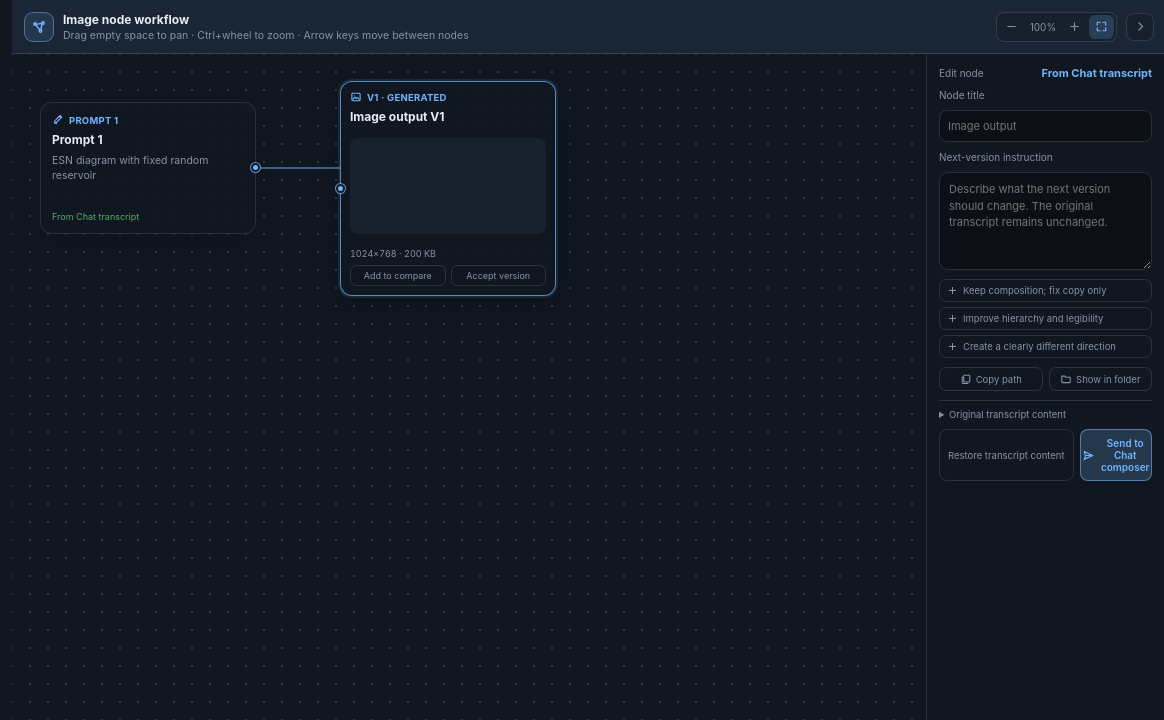
Scenario: ImageWorkflowPanel › collapses the inspector to give the canvas the full pane
Expected: the element with class "image-workflow-inspector" is shown, [926,54,1163,719]
Click the button named "Collapse editor" at coordinates (1140, 26), box [1126,12,1154,40]
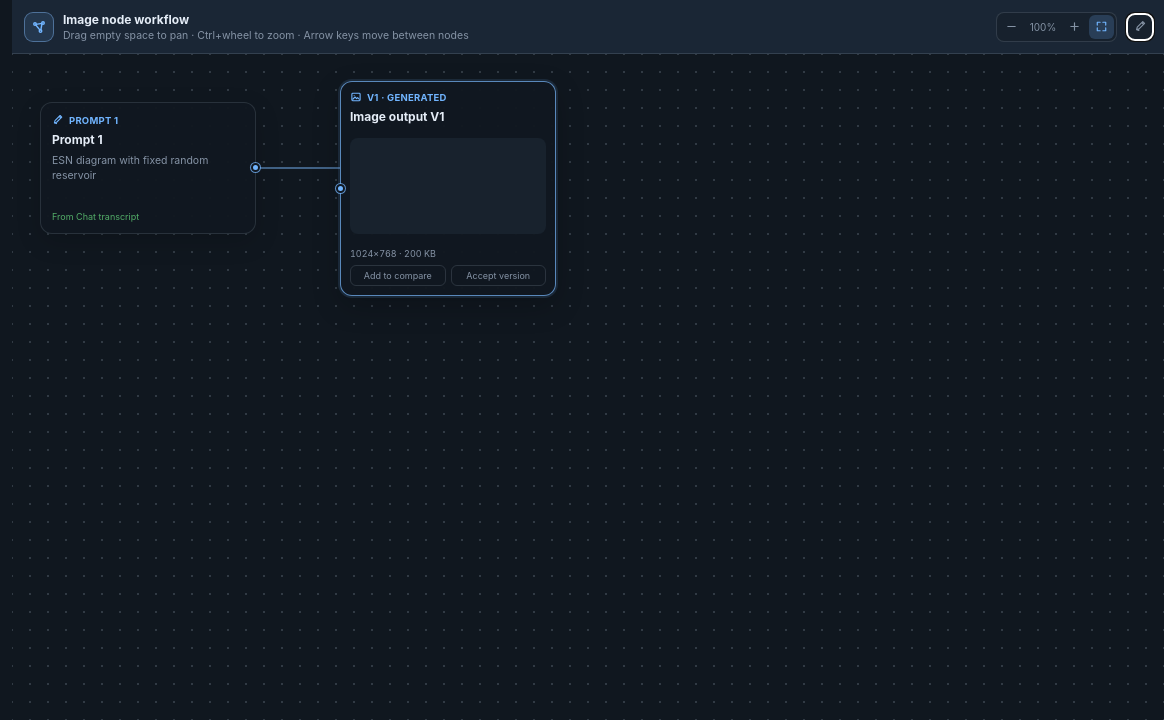
Result: the element with class "image-workflow-inspector" is gone
Click the button named "Expand editor" at coordinates (1140, 26), box [1126,12,1154,40]
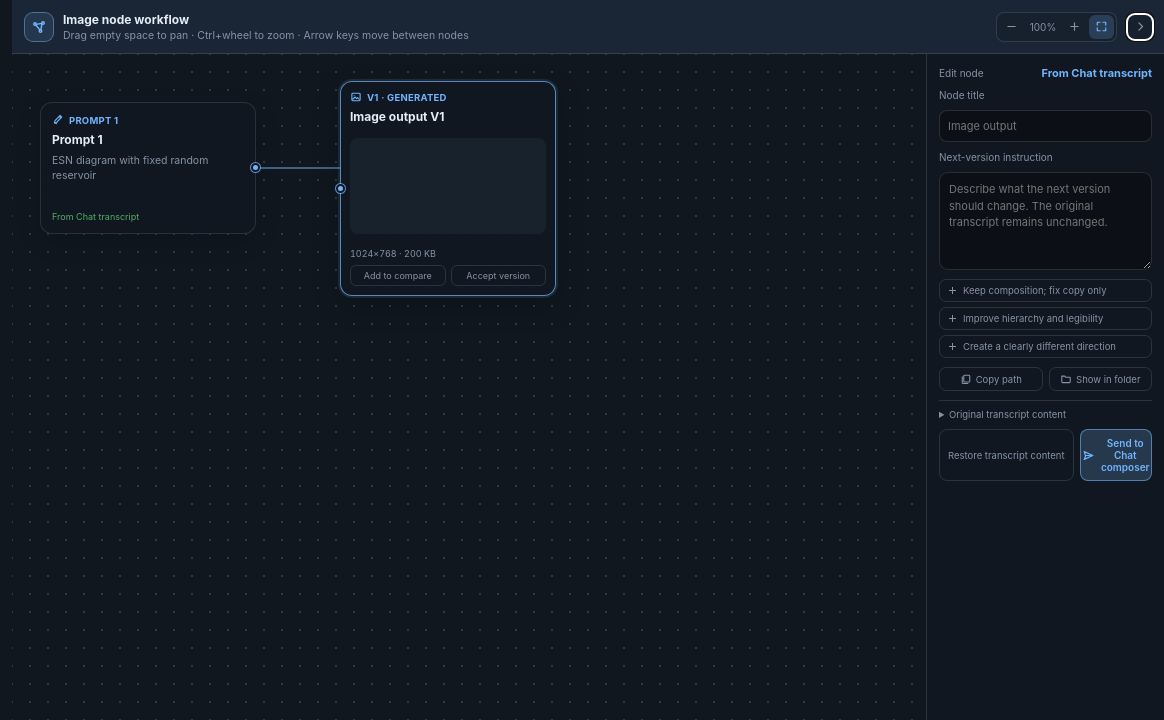
Result: the element with class "image-workflow-inspector" is shown at [926,54,1163,719]
